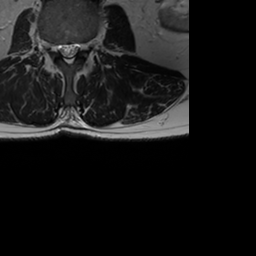CCS_normal: (66, 32, 73, 71)
LFS_normal: (81, 33, 90, 57)
LLS_normal: (73, 32, 81, 61)
RFS_normal: (49, 33, 57, 60)
RLS_normal: (57, 35, 66, 61)
